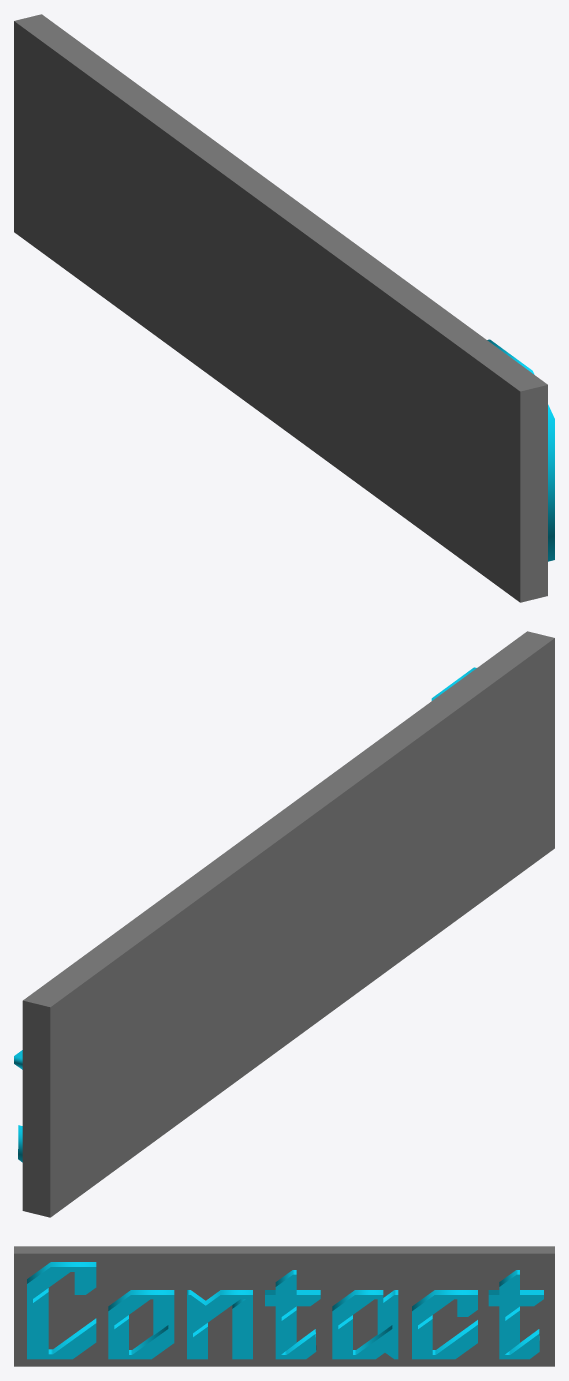
The model's file is Contact.glb.
3 views of the same model, one above another, from view 1: azimuth 30°, elevation 25°; view 2: azimuth 150°, elevation 25°; view 3: azimuth 270°, elevation 25° (orthographic). The views are drawn at different scales.
Visible parts, largest first — view 1: Cube, Text; view 2: Cube; view 3: Cube, Text.
Boxes of the visible parts, x1,y1,x2,y2 form: Cube: [14, 14, 547, 602]; Text: [487, 339, 554, 561]; Cube: [22, 631, 554, 1217]; Cube: [14, 1246, 554, 1366]; Text: [27, 1262, 543, 1359].
Size of the model in its own units: 0.1737 by 0.7493 by 3.26.
